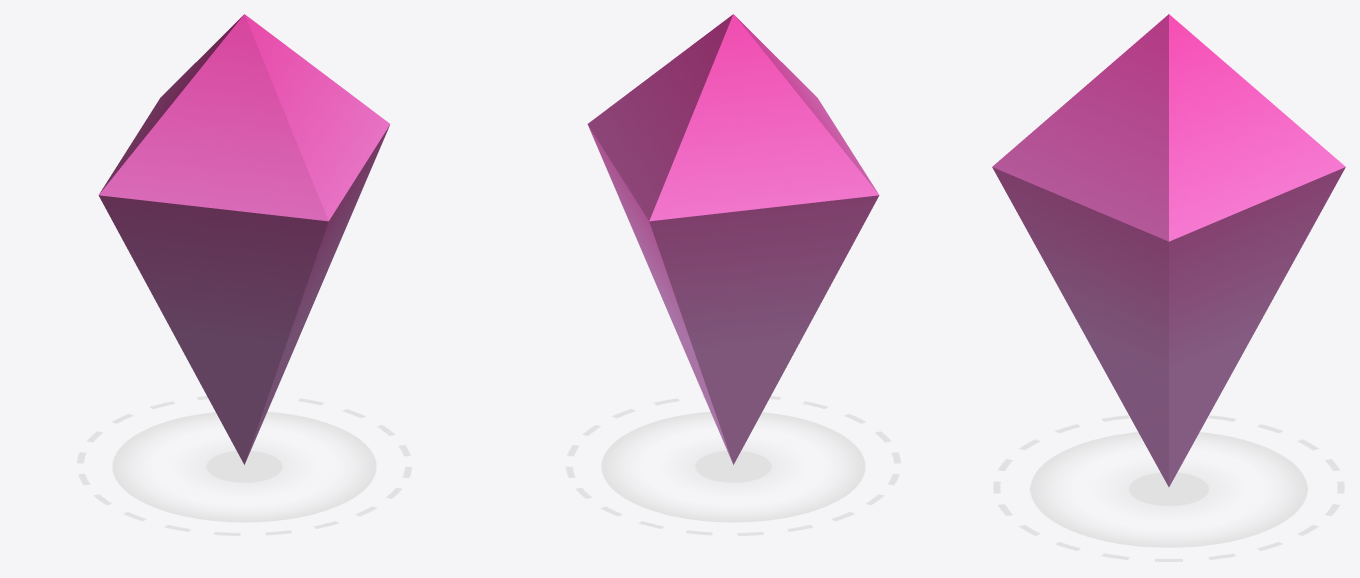
3 views of the same model, side by side, from view 1: azimuth 30°, elevation 25°; view 2: azimuth 150°, elevation 25°; view 3: azimuth 270°, elevation 25° (orthographic). The views are drawn at different scales.
Parts seen in each view (by area): view 1: 锥体, 平面1, 平面2; view 2: 锥体, 平面1, 平面2; view 3: 锥体, 平面1, 平面2.
Part boxes in pixels (x1,y1,x2,y2): 锥体: [98, 14, 390, 464]; 平面1: [112, 412, 376, 522]; 平面2: [77, 395, 411, 535]; 锥体: [587, 14, 879, 464]; 平面1: [601, 412, 865, 522]; 平面2: [566, 395, 900, 535]; 锥体: [992, 14, 1345, 486]; 平面1: [1030, 432, 1307, 547]; 平面2: [993, 415, 1344, 561].
Bounding box in the file's own units: 2 × 2.96 × 2.
Materials: 3 (3 with a texture image).
